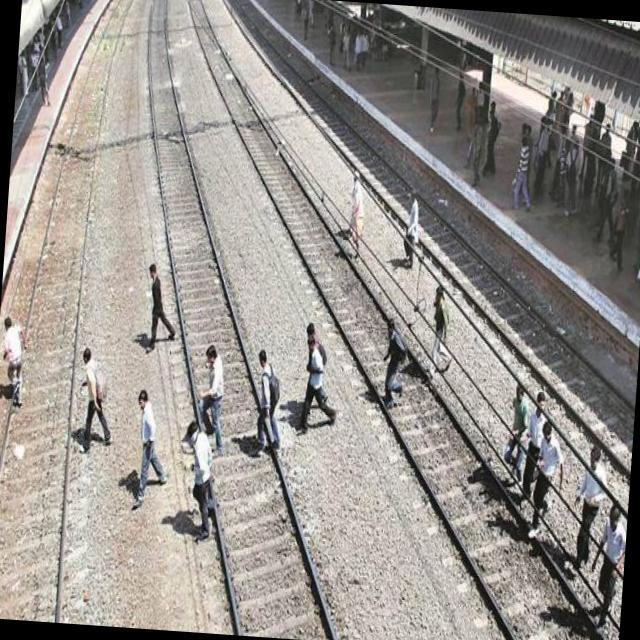person: (175, 420, 224, 546), (128, 387, 176, 514), (586, 498, 628, 632), (72, 344, 120, 459), (293, 330, 343, 436), (570, 438, 608, 574), (528, 416, 566, 544), (138, 261, 182, 359), (195, 341, 230, 458), (376, 314, 412, 418), (252, 348, 284, 458), (0, 311, 32, 415), (502, 382, 532, 492), (426, 281, 456, 382), (342, 168, 369, 266), (511, 132, 537, 215), (400, 187, 422, 276), (427, 63, 442, 134), (454, 70, 468, 135)
